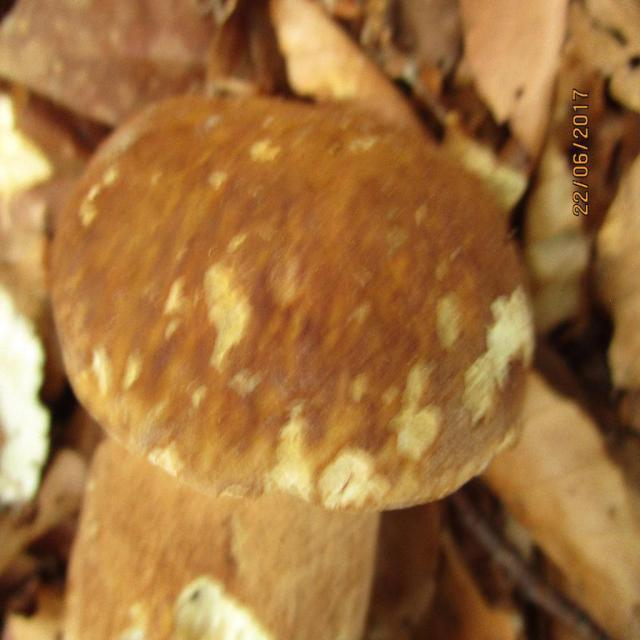Boletus: (55, 96, 535, 640)
